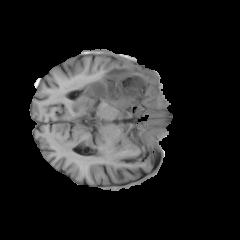glioma: (79, 64, 151, 110)
